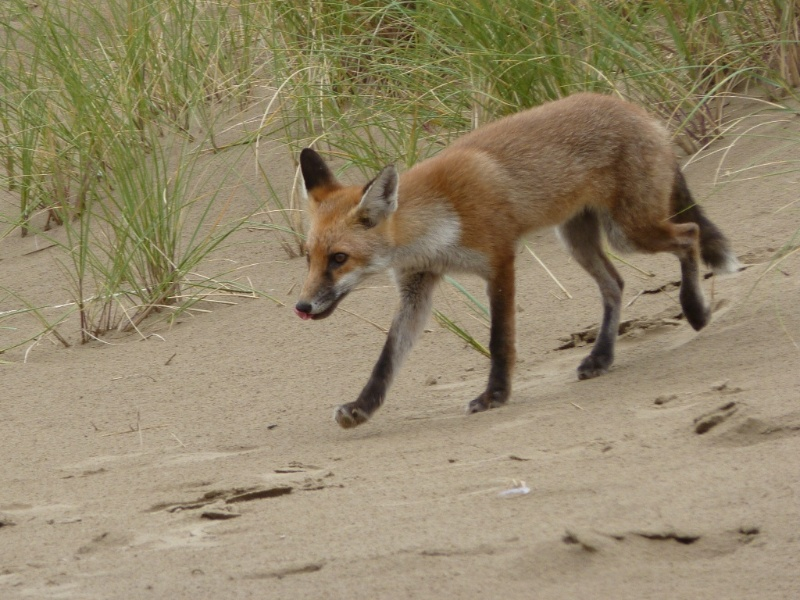fox: (295, 93, 732, 440)
